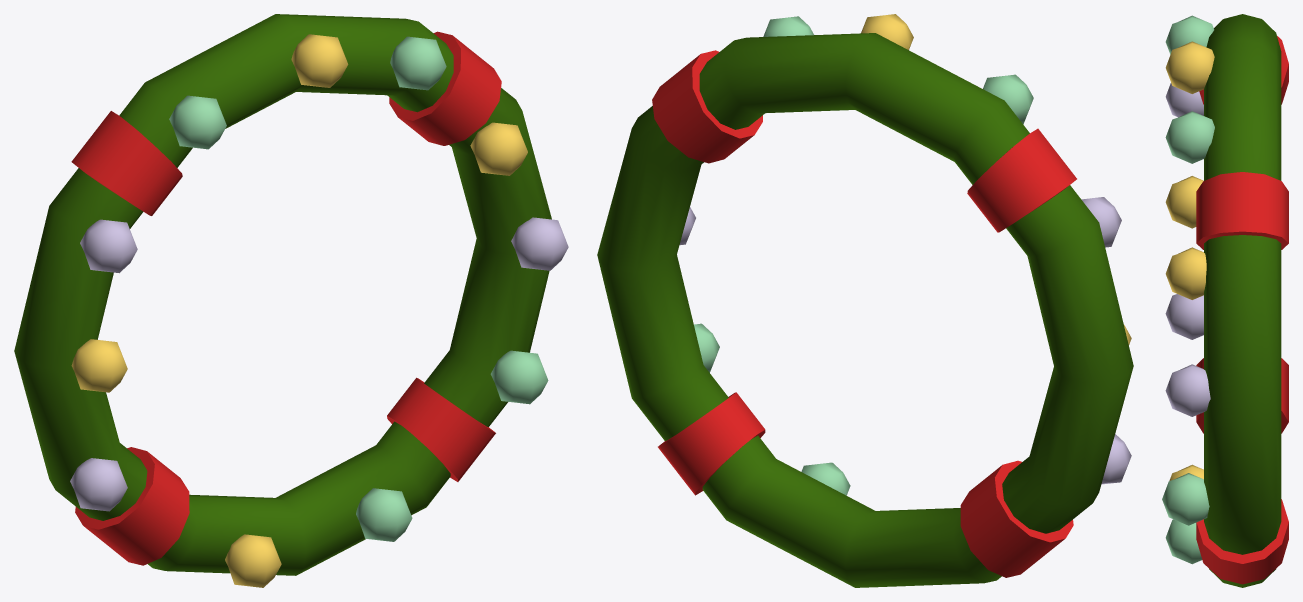
The model's file is Christmas_wreath_5.glb.
3 renders of one model, left to right at view 1: azimuth 30°, elevation 25°; view 2: azimuth 150°, elevation 25°; view 3: azimuth 270°, elevation 25°, orthographic. The views are drawn at different scales.
Parts seen in each view (by area): view 1: Christmas_wreath_5; view 2: Christmas_wreath_5; view 3: Christmas_wreath_5.
Boxes of the visible parts, x1,y1,x2,y2 form: Christmas_wreath_5: (14,14,568,587); Christmas_wreath_5: (597,14,1133,587); Christmas_wreath_5: (1162,14,1288,587).
Size of the model in its own units: 1.04 by 1.04 by 0.2298.
Materials: 1 (1 with a texture image).
